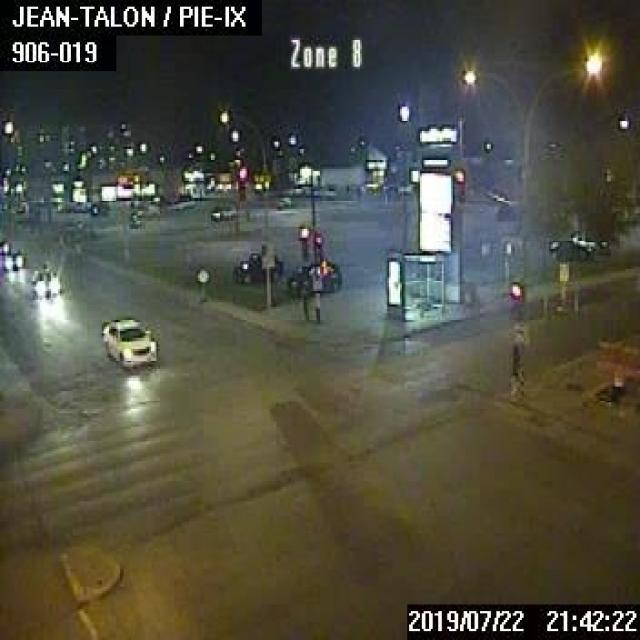construction: (601, 338, 638, 396)
vehicle: (99, 316, 157, 366), (285, 262, 340, 297), (546, 228, 610, 258), (232, 251, 279, 282), (31, 261, 60, 299), (164, 192, 192, 210), (210, 202, 236, 220), (2, 250, 23, 268), (274, 196, 290, 209), (0, 237, 9, 254)
